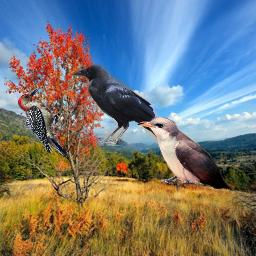Crow: (72, 63, 170, 146)
Cuckoo: (137, 117, 230, 190)
Woodpecker: (17, 88, 68, 158)
